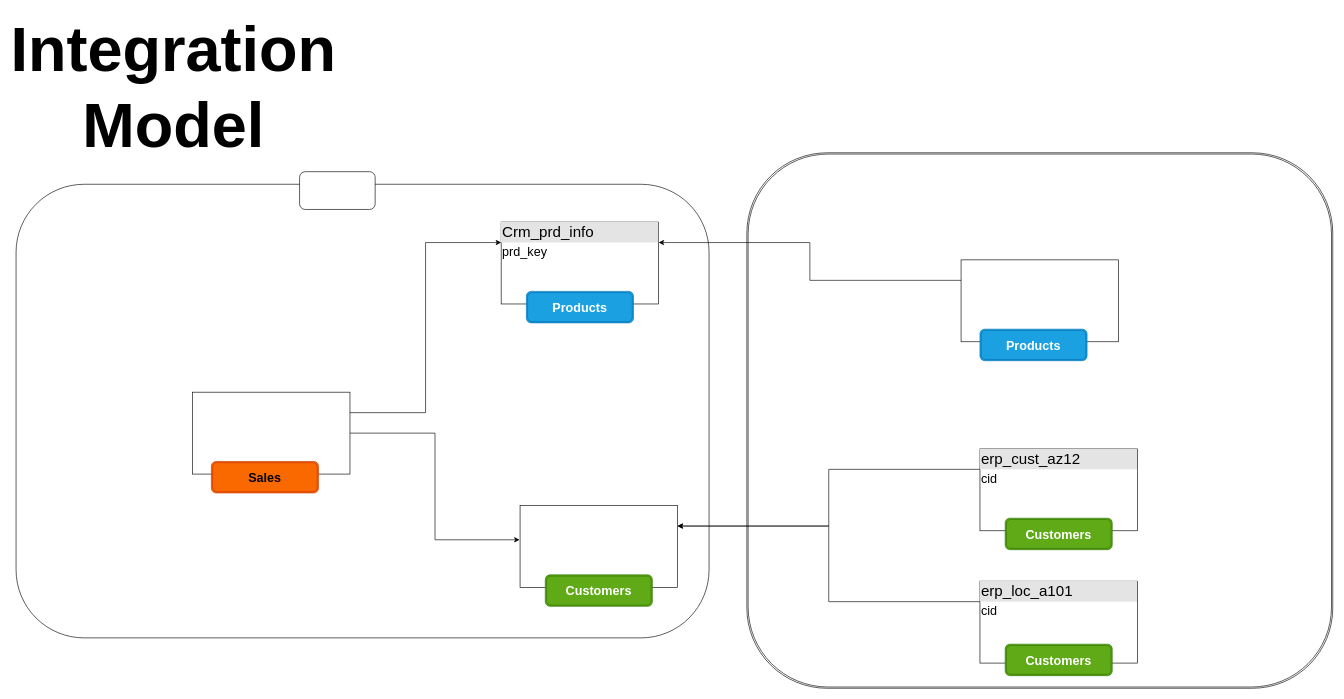
Some shapes in this 1344 by 699 pixel diagram are drawn without their labels. The centre of each missing label's shape, as x and y in pixels:
"CRM" goes at (337,190).
"Crm_cust_info cst_id cst_key" goes at (598,546).
"crm_sales_details prd_key cst_id" goes at (271,433).
"erp_px_cat_g1v2 id" goes at (1039,300).
